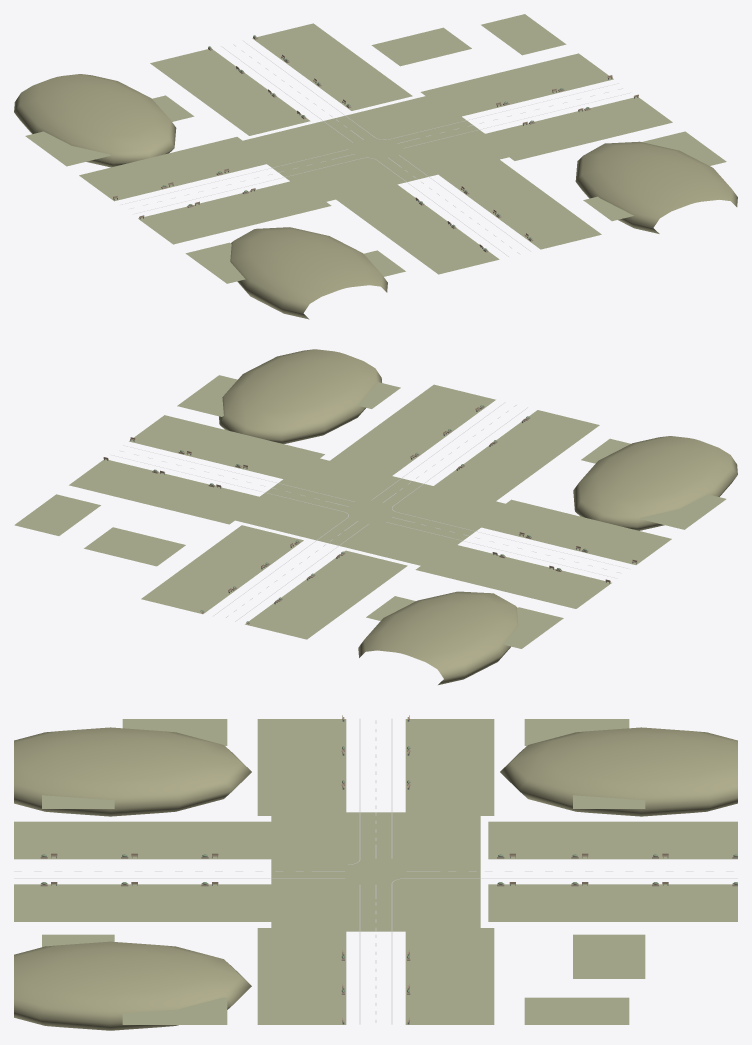
3 views of the same model, one above another, from view 1: azimuth 30°, elevation 25°; view 2: azimuth 150°, elevation 25°; view 3: azimuth 270°, elevation 25° (orthographic). The views are drawn at different scales.
Parts seen in each view (by area): view 1: static; view 2: static; view 3: static.
Part boxes in pixels (bbox=[...]): static: bbox=[14, 14, 737, 319]; static: bbox=[14, 349, 737, 684]; static: bbox=[14, 715, 737, 1030].
Size of what is drawn, in the model's own units: 180 by 14.08 by 180.
